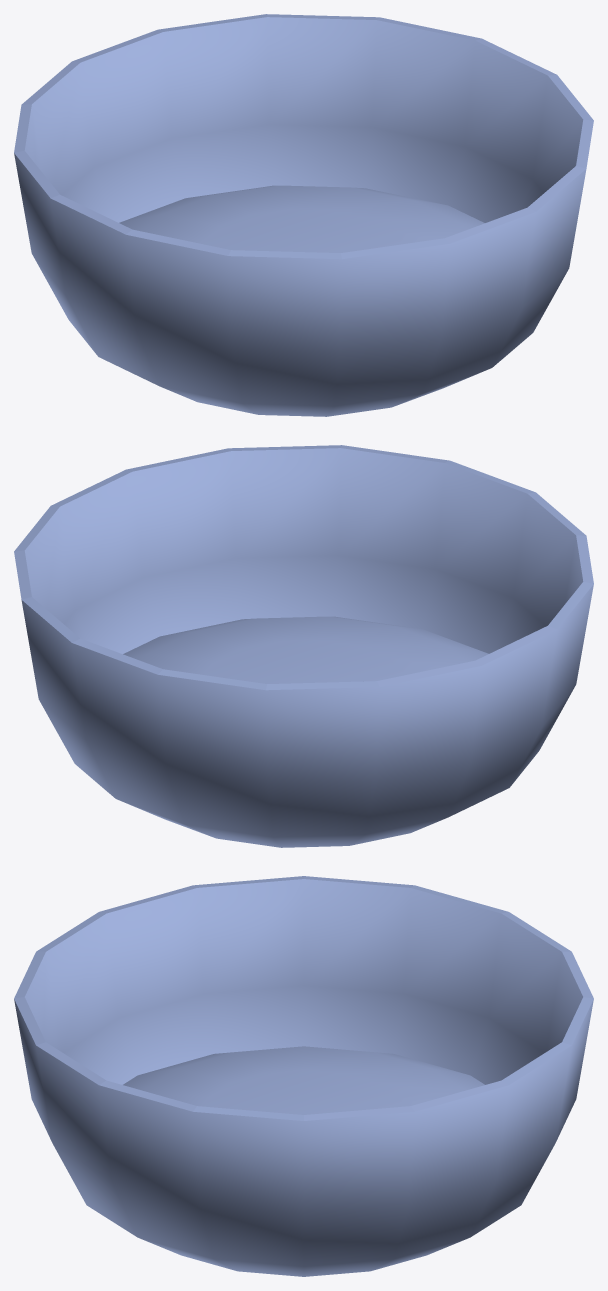
The model's file is mixing bowl large.fbx.
3 renders of one model, top to bottom at view 1: azimuth 30°, elevation 25°; view 2: azimuth 150°, elevation 25°; view 3: azimuth 270°, elevation 25°, orthographic.
Parts seen in each view (by area): view 1: mixing bowl large, mixing bowl large interior; view 2: mixing bowl large, mixing bowl large interior; view 3: mixing bowl large, mixing bowl large interior.
Part boxes in pixels (x1,y1,x2,y2): mixing bowl large: (14, 14, 593, 416); mixing bowl large interior: (119, 185, 484, 252); mixing bowl large: (14, 445, 593, 847); mixing bowl large interior: (123, 616, 488, 683); mixing bowl large: (14, 876, 593, 1276); mixing bowl large interior: (123, 1046, 484, 1114).
Size of the model in its own units: 0.8017 by 0.3327 by 0.8017.
